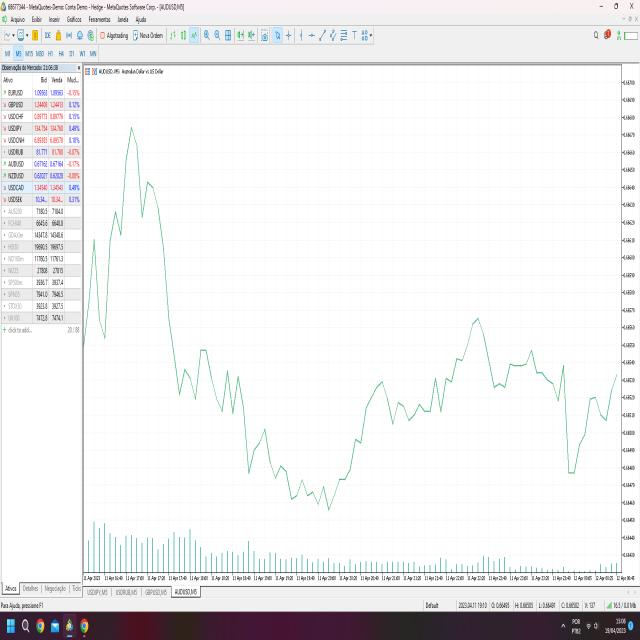bandeira_baixa: (151, 228, 247, 424)
oco: (104, 107, 174, 323)
